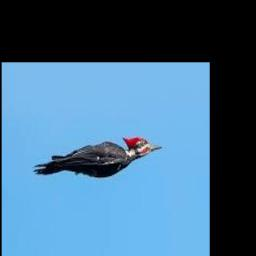Woodpecker: (33, 135, 161, 178)
